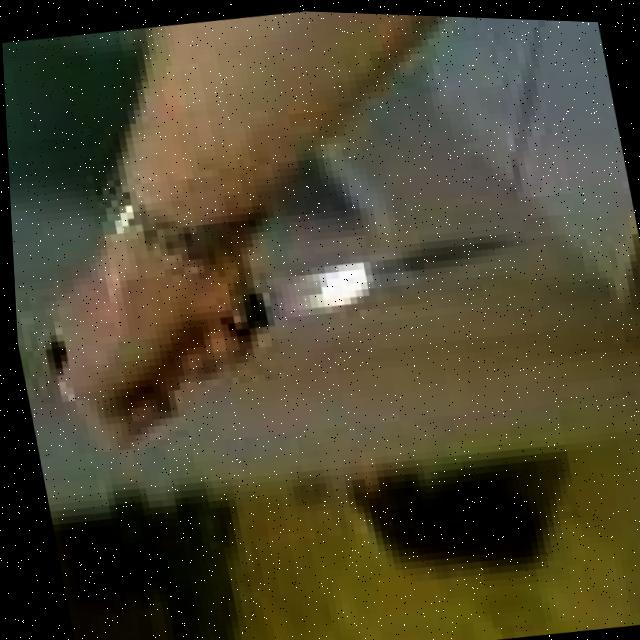knife: (234, 213, 543, 339)
